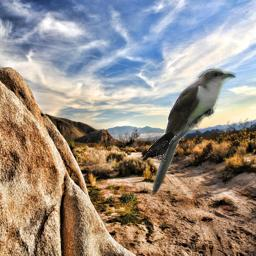Crow: (141, 131, 178, 163)
Cuckoo: (148, 67, 236, 199)
